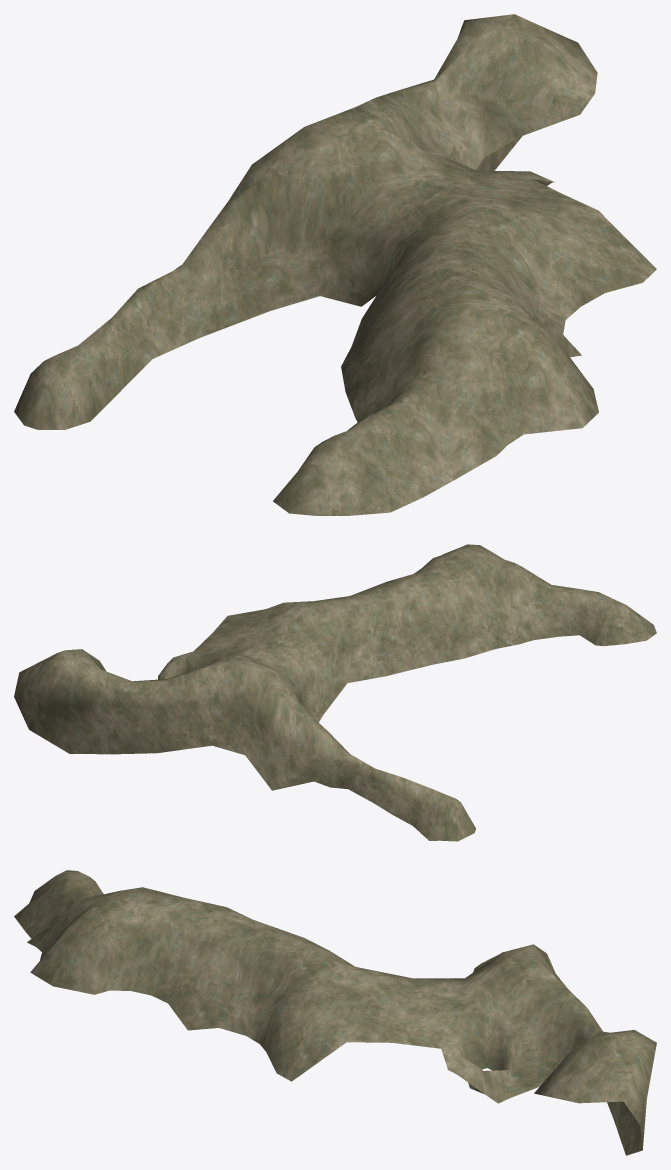
Rendered from EKH_THRONE_PS_TH_BACK_ROOF_01.fbx.
The picture shows the model from 3 angles, top to bottom: view 1: azimuth 30°, elevation 25°; view 2: azimuth 150°, elevation 25°; view 3: azimuth 270°, elevation 25°; orthographic projection. The views are drawn at different scales.
Visible parts, largest first — view 1: EKH_THRONE_PS_TH_BACK_ROOF_01; view 2: EKH_THRONE_PS_TH_BACK_ROOF_01; view 3: EKH_THRONE_PS_TH_BACK_ROOF_01.
Boxes of the visible parts, x1,y1,x2,y2 form: EKH_THRONE_PS_TH_BACK_ROOF_01: [14, 14, 656, 515]; EKH_THRONE_PS_TH_BACK_ROOF_01: [14, 544, 656, 841]; EKH_THRONE_PS_TH_BACK_ROOF_01: [14, 870, 656, 1155].
Size of the model in its own units: 226689 by 76058 by 245946.
1 material, 1 textured.
